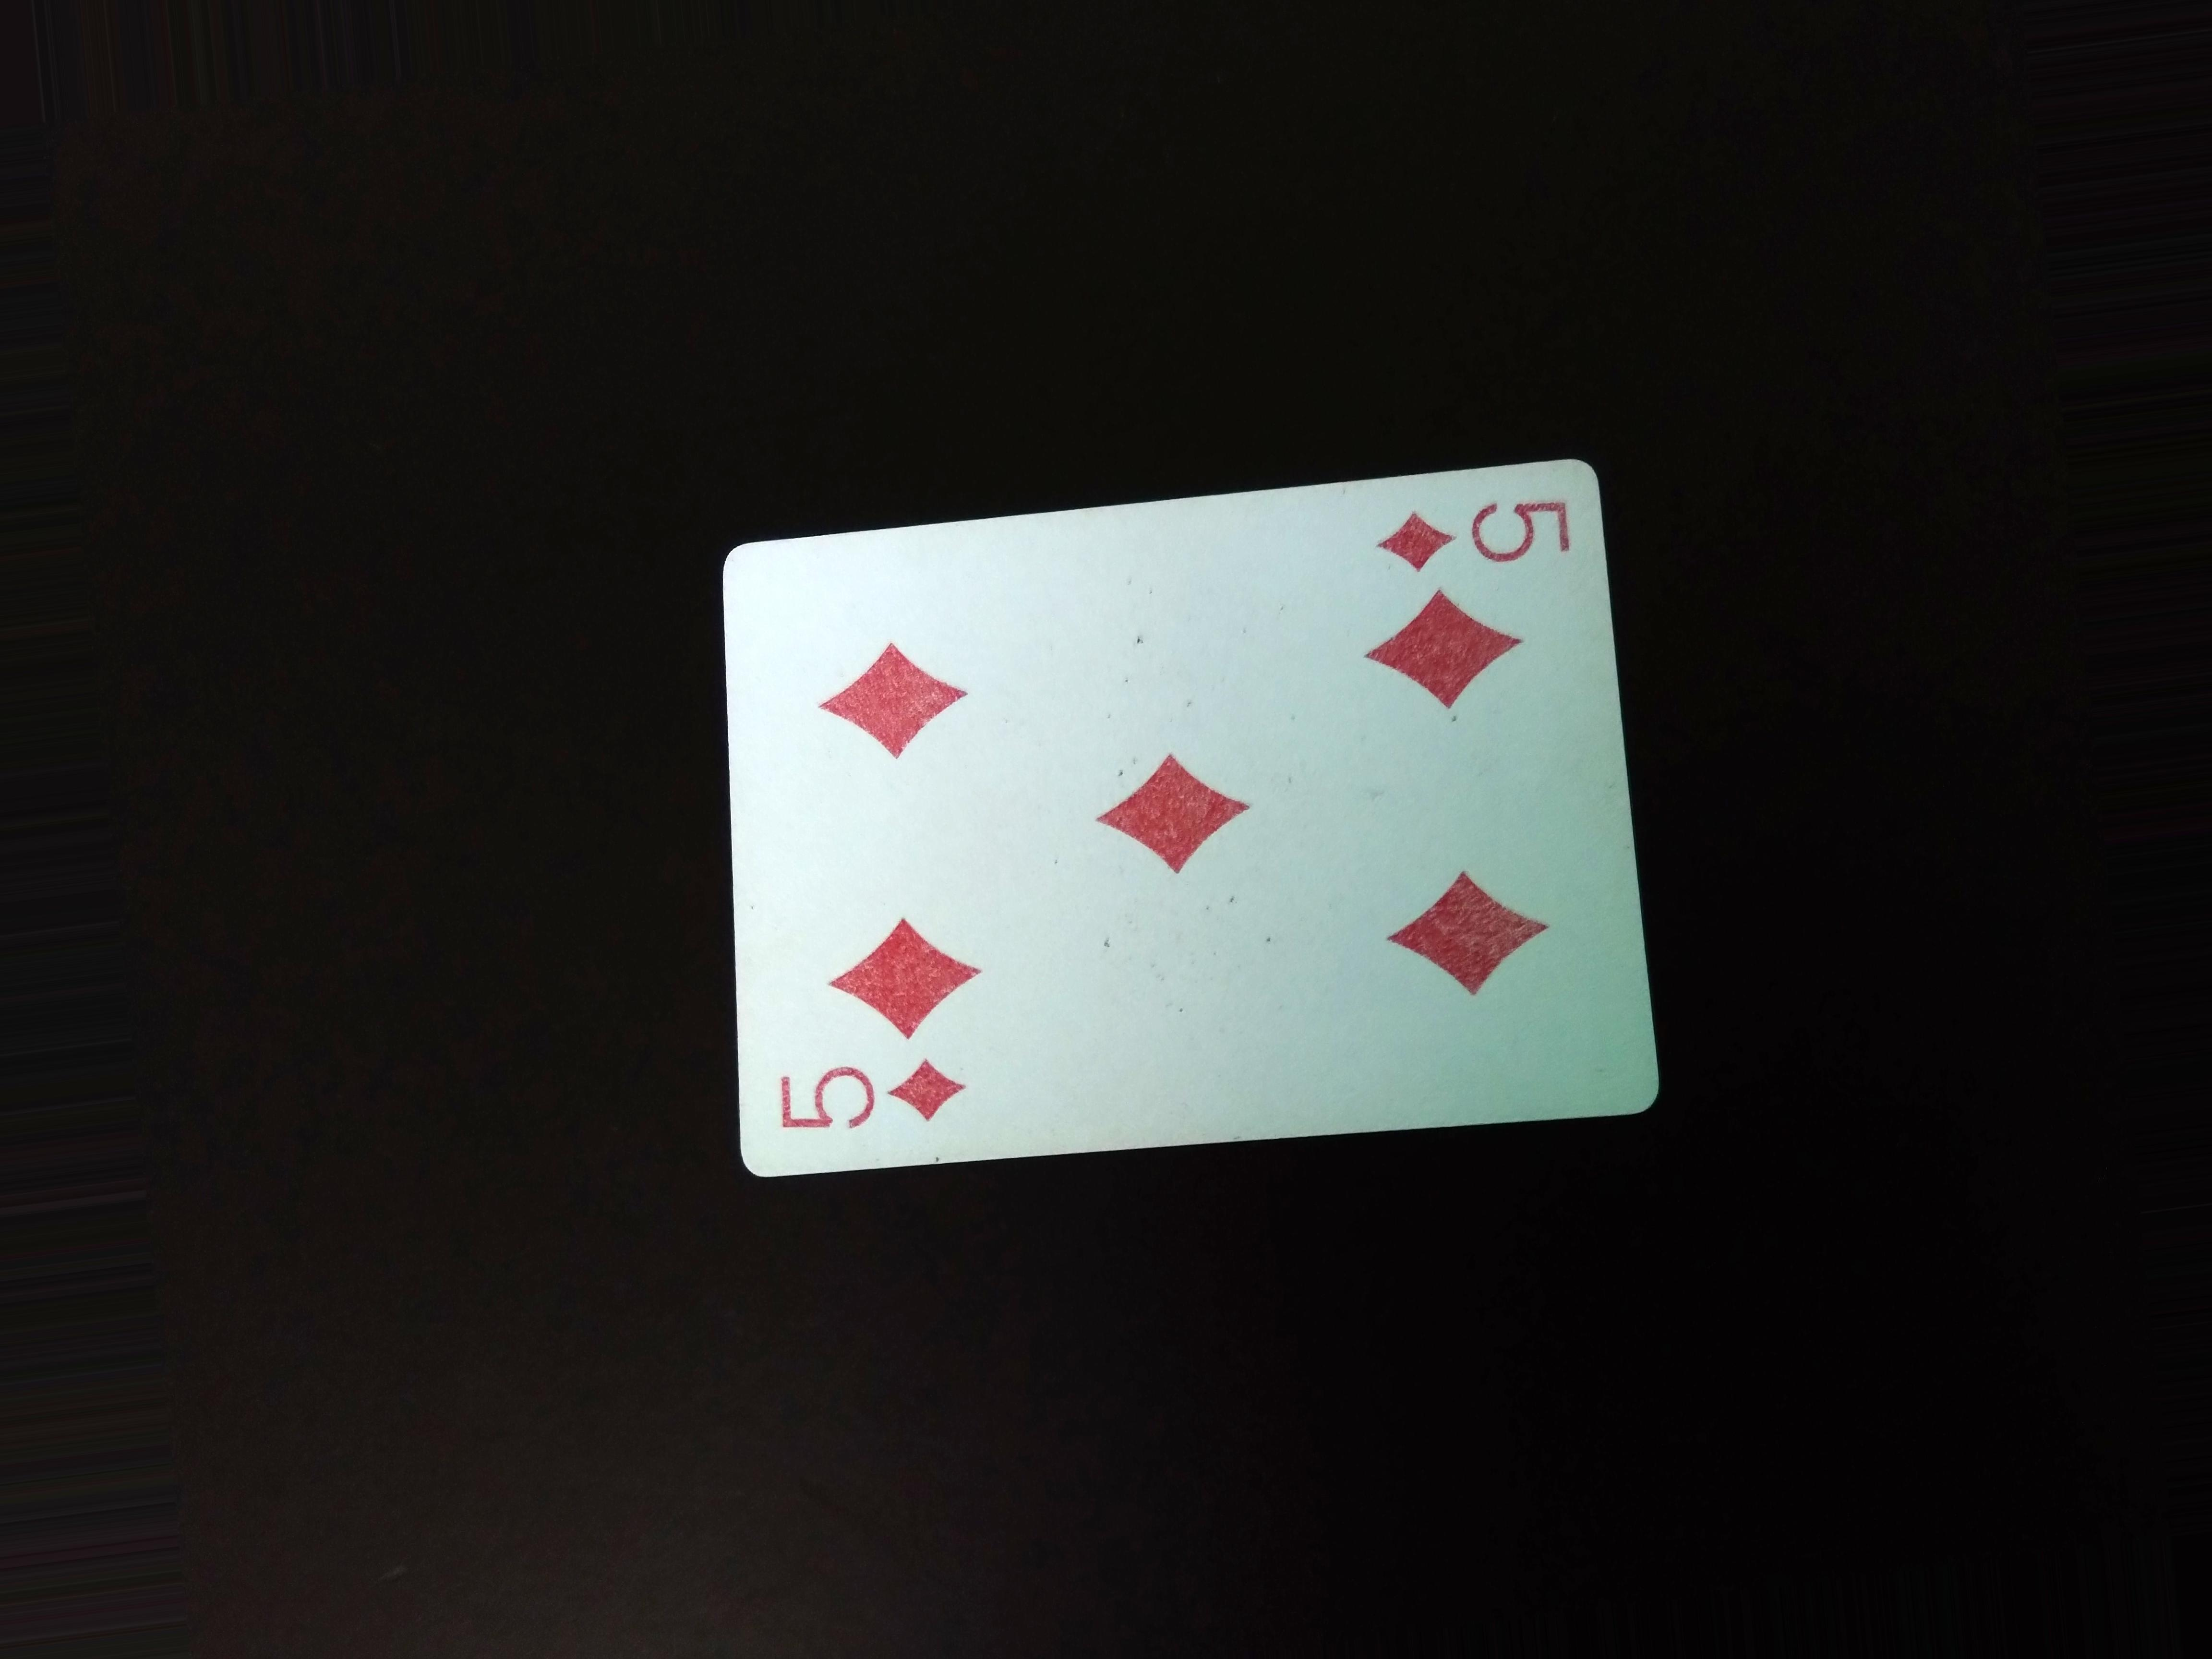5D: (742, 1053, 1029, 1147)
